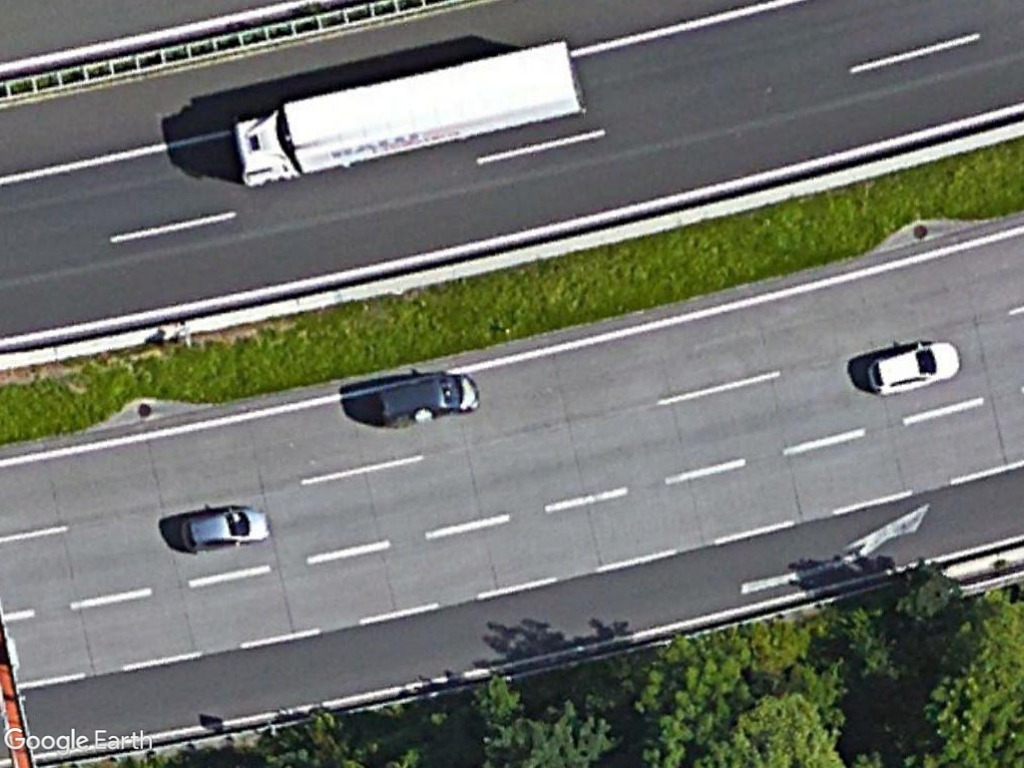car: (860, 332, 965, 401), (372, 369, 483, 430), (172, 496, 273, 559)
longvehicle: (227, 29, 584, 192)
